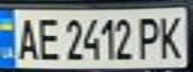1: (100, 15, 118, 61)
2: (60, 15, 84, 62), (112, 15, 136, 61)
4: (81, 15, 100, 61)
A: (12, 14, 39, 62)
E: (33, 14, 60, 62)
K: (154, 11, 187, 60)
P: (133, 12, 163, 61)
